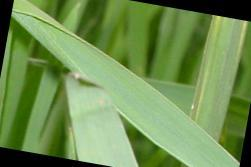Wheat: (23, 5, 120, 84), (69, 84, 136, 165), (197, 21, 241, 137)
